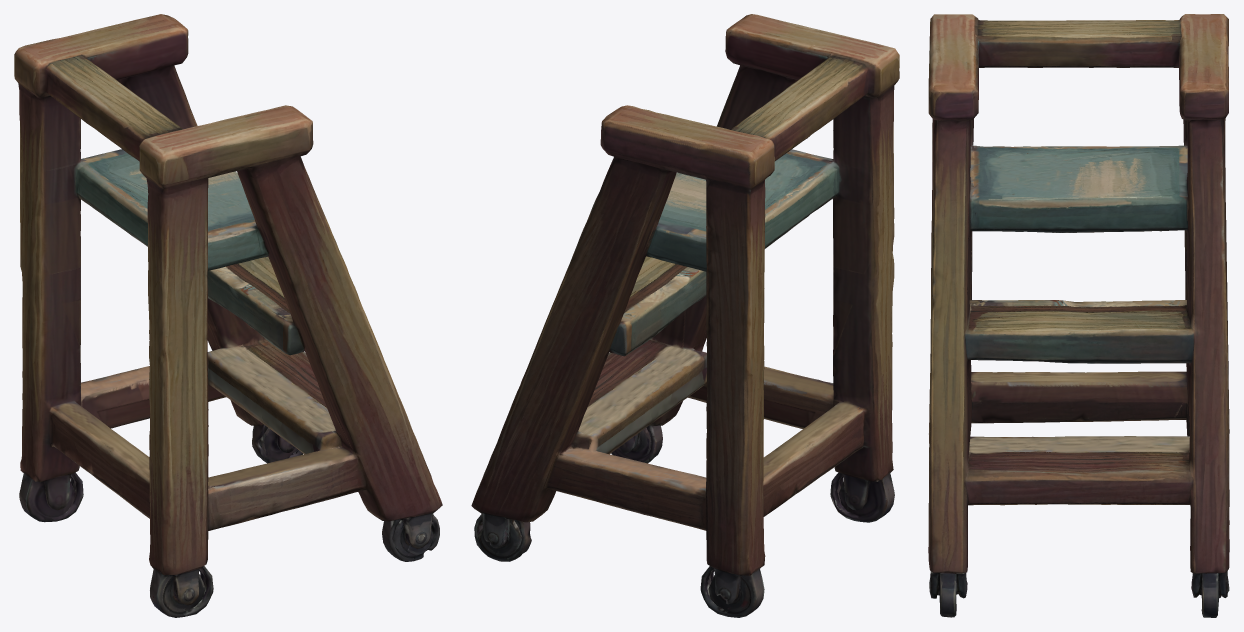
The model's file is Furn_LibraryLadder.fbx.
The picture shows the model from 3 angles, left to right: view 1: azimuth 30°, elevation 25°; view 2: azimuth 150°, elevation 25°; view 3: azimuth 270°, elevation 25°; orthographic projection.
Parts seen in each view (by area): view 1: texture_mapping; view 2: texture_mapping; view 3: texture_mapping.
Part boxes in pixels (bbox=[...]): texture_mapping: bbox=[14, 14, 442, 617]; texture_mapping: bbox=[471, 14, 899, 617]; texture_mapping: bbox=[928, 14, 1229, 617].
Size of the model in its own units: 0.6328 by 0.5754 by 1.
1 material, 1 textured.
